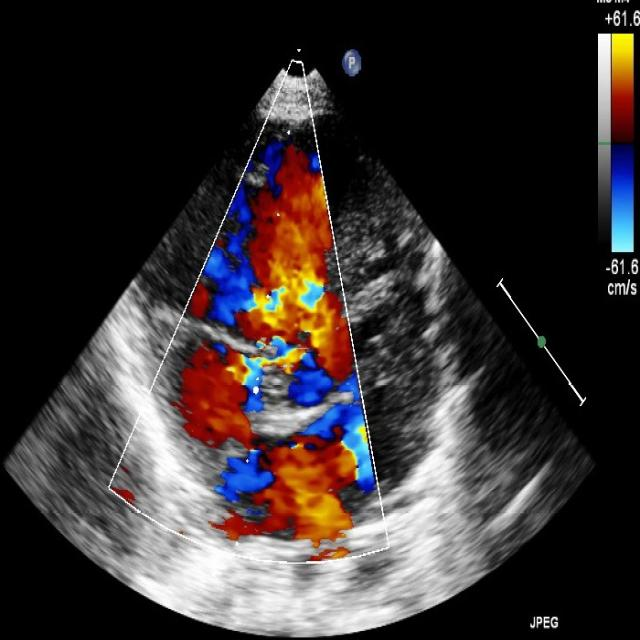VSDType2: (228, 260, 349, 383)
